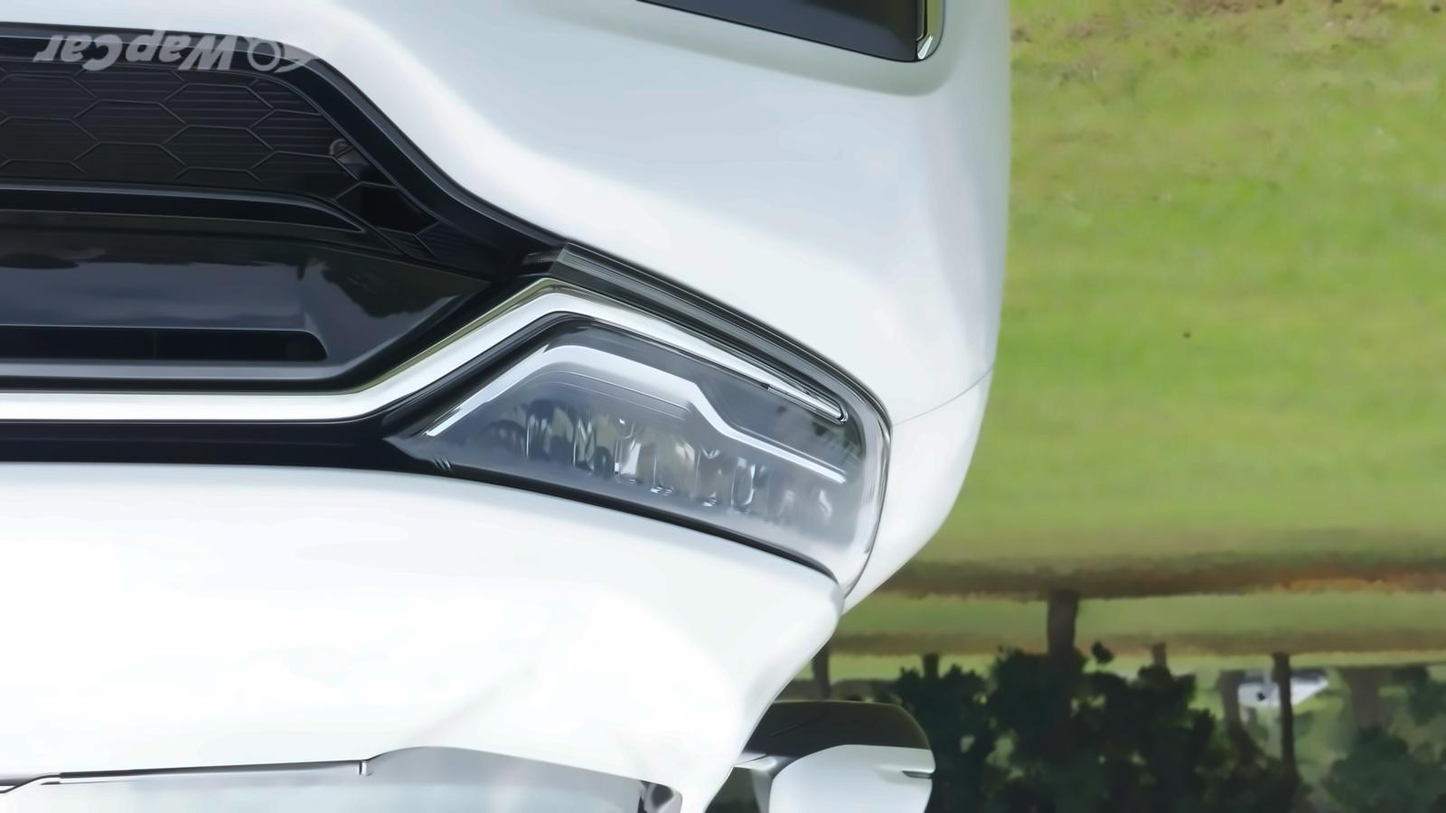Car hood: (0, 452, 843, 779)
Front bumper: (7, 0, 1002, 439)
Headlight - -R-: (387, 274, 894, 606)
Side mirror - -R-: (734, 689, 934, 813)
